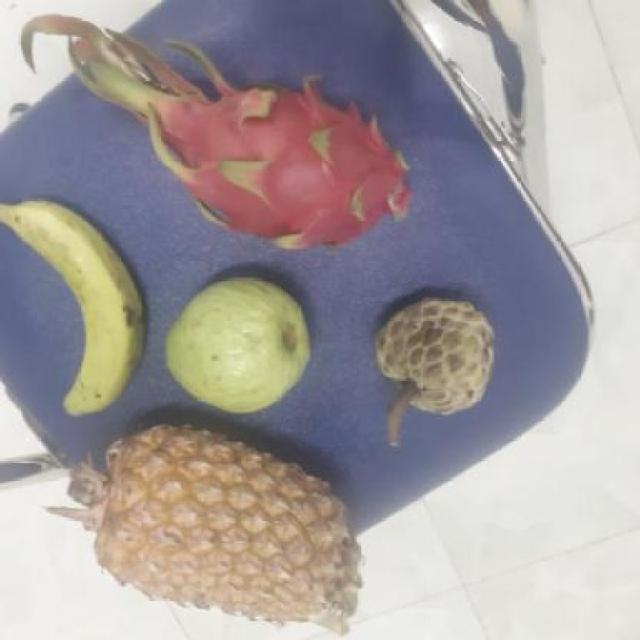banana: (1, 192, 150, 416)
dragon fruit: (154, 75, 423, 251)
guava: (166, 276, 320, 409)
pineapple: (90, 416, 364, 626)
sugar apple: (378, 294, 502, 418)
